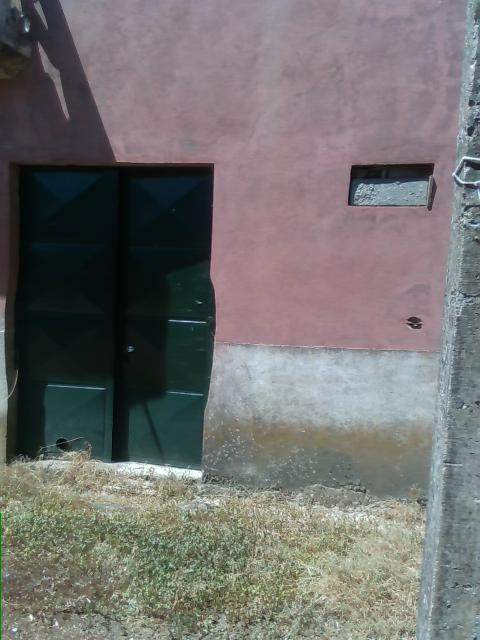door: (6, 162, 215, 480)
